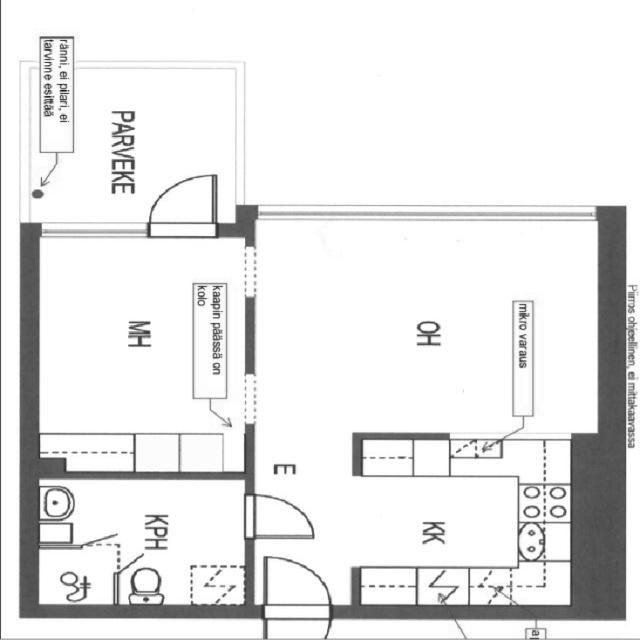door: (148, 171, 220, 235), (262, 555, 334, 613), (245, 489, 321, 542)
window: (37, 220, 146, 244), (148, 219, 222, 241), (238, 240, 262, 305), (238, 366, 262, 431)
zone: (255, 218, 599, 440), (245, 436, 575, 606), (29, 230, 243, 474), (31, 476, 253, 610)
